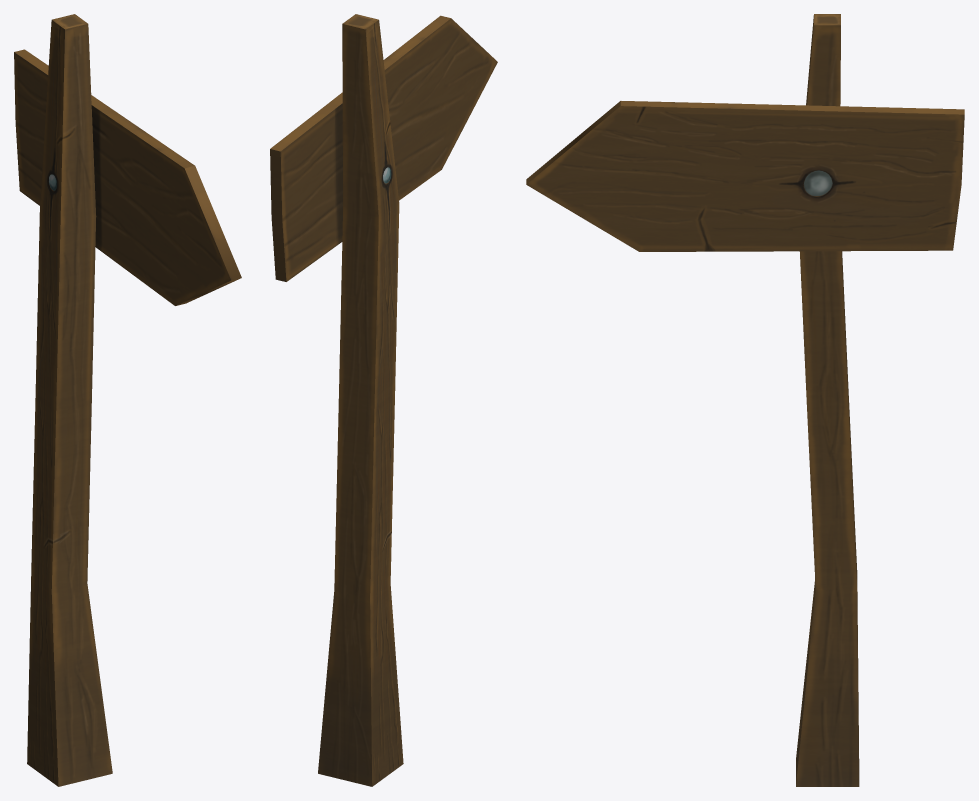
Rendered from sign_free_fbx.FBX.
The picture shows the model from 3 angles, left to right: view 1: azimuth 30°, elevation 25°; view 2: azimuth 150°, elevation 25°; view 3: azimuth 270°, elevation 25°; orthographic projection.
Visible parts, largest first — view 1: Box002; view 2: Box002; view 3: Box002.
Boxes of the visible parts, x1,y1,x2,y2 form: Box002: (14, 14, 241, 786); Box002: (270, 14, 497, 786); Box002: (526, 14, 964, 786).
Bounding box in the file's own units: 152 × 2000 × 1054.
Materials: 1 (1 with a texture image).
